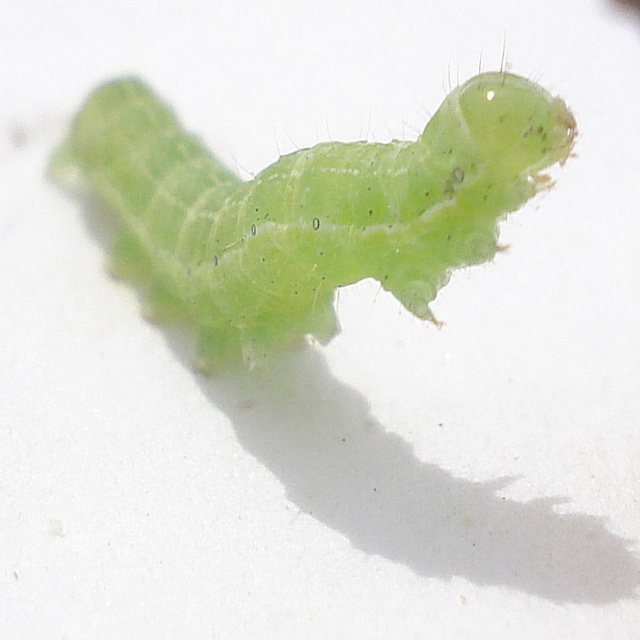Caterpillar: (70, 52, 575, 389)
